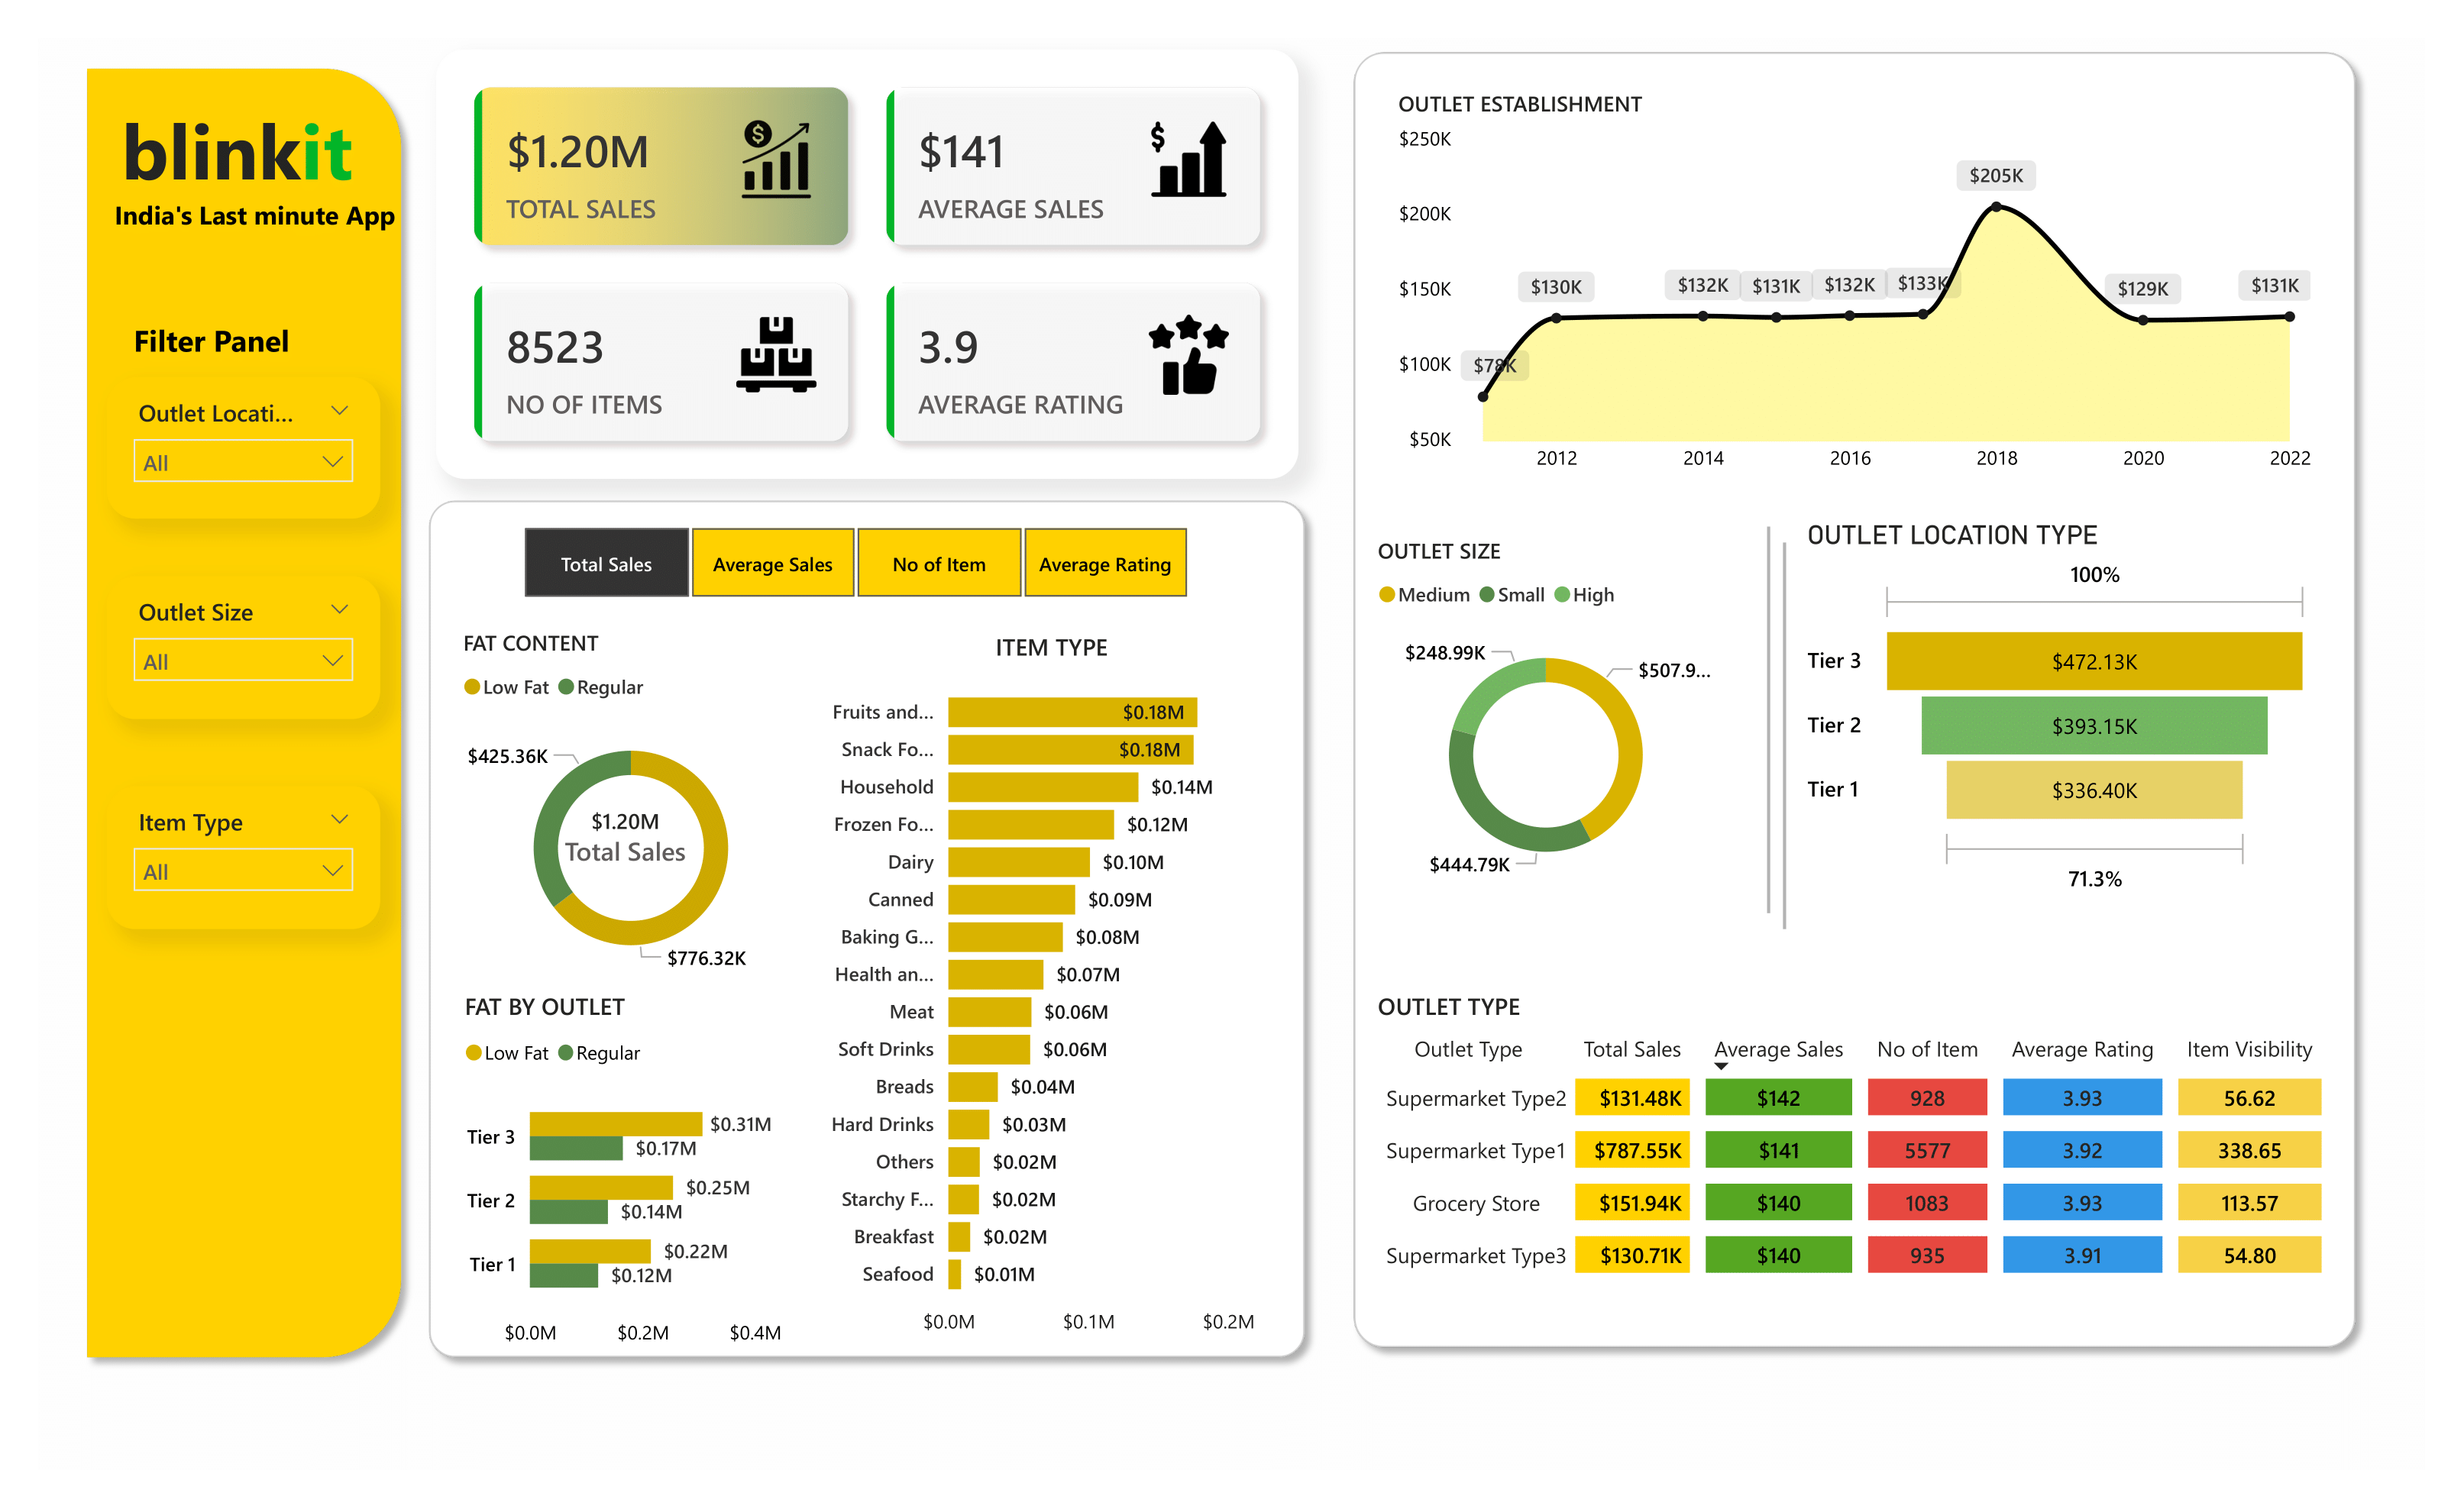

What the dashboard file says about the page in this screenshot:
{"tool":"powerbi","page":{"name":"Page 1","canvas":[1500,900],"ordinal":0},"visuals":[{"type":"shape","box":[818.3,0,646.7,831.7],"z":0},{"type":"shape","box":[21.7,10,215,828.3],"z":1000},{"type":"textbox","box":[0,32,249.6,75.2],"z":2000},{"type":"cardVisual","fields":{"Data":["BlinkIT Grocery Data.Total Sales","BlinkIT Grocery Data.Average Sales","BlinkIT Grocery Data.No of Item","BlinkIT Grocery Data.Average Rating"]},"box":[250,6.7,541.7,270],"z":3000},{"type":"shape","box":[236.7,281.7,568.3,556.7],"z":4000},{"type":"donutChart","title":"FAT CONTENT","fields":{"Y":["BlinkIT Grocery Data.Total Sales"],"Category":["BlinkIT Grocery Data.Item Fat Content"]},"box":[262.4,371.2,220.8,230.4],"z":5000},{"type":"slicer","fields":{"Values":["METRICES.METRICES"]},"box":[280,300.8,465.6,57.6],"z":6000},{"type":"slicer","fields":{"Values":["BlinkIT Grocery Data.Outlet Location Type"]},"box":[43.3,213.3,171.7,88.3],"z":7000},{"type":"lineChart","title":"OUTLET ESTABLISHMENT","fields":{"Category":["BlinkIT Grocery Data.Outlet Establishment Year"],"Y":["BlinkIT Grocery Data.Total Sales"]},"box":[850,31.7,583.3,250],"z":8000},{"type":"cardVisual","fields":{"Data":["BlinkIT Grocery Data.Total Sales"]},"box":[280,420,178.3,163.3],"z":9000},{"type":"clusteredBarChart","title":"FAT BY OUTLET","fields":{"Y":["BlinkIT Grocery Data.Total Sales"],"Category":["BlinkIT Grocery Data.Outlet Location Type"],"Series":["BlinkIT Grocery Data.Item Fat Content"]},"box":[263.3,598.3,220,233.3],"z":10000},{"type":"clusteredBarChart","title":"ITEM TYPE","fields":{"Y":["BlinkIT Grocery Data.Total Sales"],"Category":["BlinkIT Grocery Data.Item Type"]},"box":[481.7,371.7,310,453.3],"z":11000},{"type":"funnel","title":"OUTLET LOCATION TYPE","fields":{"Category":["BlinkIT Grocery Data.Outlet Location Type"],"Y":["BlinkIT Grocery Data.Total Sales"]},"box":[1106.7,301.7,326.7,241.7],"z":12000},{"type":"donutChart","title":"OUTLET SIZE","fields":{"Y":["BlinkIT Grocery Data.Total Sales"],"Category":["BlinkIT Grocery Data.Outlet Size"]},"box":[836.7,313.3,221.7,230],"z":16000},{"type":"pivotTable","title":"OUTLET TYPE","fields":{"Rows":["BlinkIT Grocery Data.Outlet Type"],"Values":["BlinkIT Grocery Data.Total Sales","BlinkIT Grocery Data.Average Sales","BlinkIT Grocery Data.No of Item","BlinkIT Grocery Data.Average Rating","Sum(BlinkIT Grocery Data.Item Visibility)"]},"box":[836.7,598.3,613.3,265],"z":17000},{"type":"slicer","fields":{"Values":["BlinkIT Grocery Data.Outlet Size"]},"box":[43.3,338.3,171.7,90],"z":18000},{"type":"slicer","fields":{"Values":["BlinkIT Grocery Data.Item Type"]},"box":[43.3,470,171.7,90],"z":19000},{"type":"textbox","box":[43.3,95,191.7,51.7],"z":20000},{"type":"shape","box":[971.7,306.7,231.7,243.3],"z":20001},{"type":"shape","box":[981.7,316.7,231.7,243.3],"z":20002},{"type":"textbox","box":[55,171.7,180,58.3],"z":20003}]}

Visuals, with their boxes in screenshot pixels (x1, y1, x2, y2):
shape: BBox(1340, 38, 2370, 1362)
shape: BBox(73, 54, 415, 1372)
textbox: BBox(38, 89, 435, 208)
cardVisual - BlinkIT Grocery Data.Total Sales x BlinkIT Grocery Data.Average Sales: BBox(436, 49, 1298, 479)
shape: BBox(415, 486, 1320, 1373)
"FAT CONTENT" donutChart: BBox(456, 629, 807, 996)
slicer - METRICES.METRICES: BBox(484, 517, 1225, 609)
slicer - BlinkIT Grocery Data.Outlet Location Type: BBox(107, 378, 380, 519)
"OUTLET ESTABLISHMENT" lineChart: BBox(1391, 89, 2320, 486)
cardVisual - BlinkIT Grocery Data.Total Sales: BBox(484, 706, 768, 967)
"FAT BY OUTLET" clusteredBarChart: BBox(458, 990, 807, 1362)
"ITEM TYPE" clusteredBarChart: BBox(805, 630, 1298, 1352)
"OUTLET LOCATION TYPE" funnel: BBox(1799, 519, 2320, 903)
"OUTLET SIZE" donutChart: BBox(1370, 537, 1723, 903)
"OUTLET TYPE" pivotTable: BBox(1370, 990, 2346, 1412)
slicer - BlinkIT Grocery Data.Outlet Size: BBox(107, 577, 380, 720)
slicer - BlinkIT Grocery Data.Item Type: BBox(107, 787, 380, 929)
textbox: BBox(107, 189, 412, 272)
shape: BBox(1585, 526, 1954, 913)
shape: BBox(1601, 542, 1970, 929)
textbox: BBox(126, 312, 412, 404)
